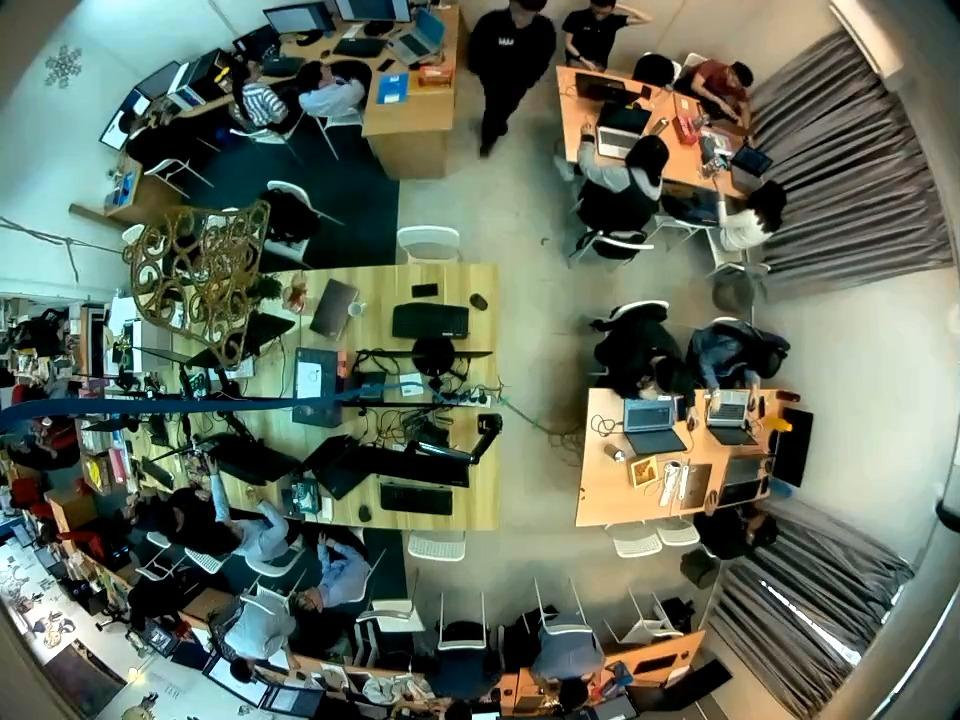name-tag: (497, 37, 516, 47)
